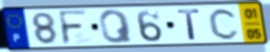6: (135, 8, 165, 43)
8: (29, 12, 59, 45)
C: (208, 7, 241, 41)
F: (56, 9, 90, 46)
Q: (98, 8, 135, 45)
T: (176, 8, 203, 41)
